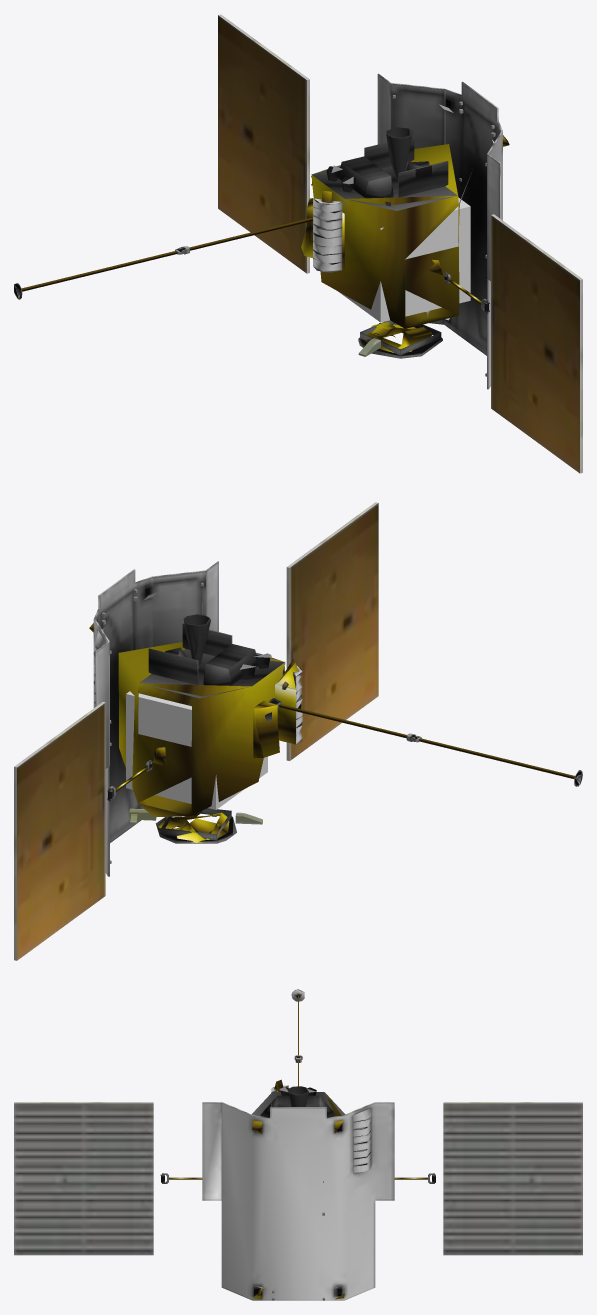
The model's file is space-messenger.glb.
The picture shows the model from 3 angles, top to bottom: view 1: azimuth 30°, elevation 25°; view 2: azimuth 150°, elevation 25°; view 3: azimuth 270°, elevation 25°; orthographic projection. The views are drawn at different scales.
Visible parts, largest first — view 1: Tex_01, Foil_gold, AO_heatshield, Foil_silver, _root, AO_other, AO_other2, Tex_darkgrey; view 2: Tex_01, Foil_gold, AO_heatshield, Foil_silver, _root, AO_other2, Tex_darkgrey, AO_other; view 3: Tex_01, AO_heatshield, AO_other, Foil_silver, Foil_gold.
Boxes of the visible parts, x1,y1,x2,y2 form: Tex_01: (218,14,582,473); Foil_gold: (21,135,509,352); AO_heatshield: (377,73,502,389); Foil_silver: (311,136,457,210); _root: (338,197,470,322); AO_other: (14,198,342,299); AO_other2: (175,176,489,358); Tex_darkgrey: (386,127,413,181); Tex_01: (14,502,378,960); Foil_gold: (89,623,574,842); AO_heatshield: (93,561,218,876); Foil_silver: (139,623,284,721); _root: (126,691,267,809); AO_other2: (107,663,421,843); Tex_darkgrey: (183,614,210,669); AO_other: (93,630,582,786); Tex_01: (14,1102,582,1255); AO_heatshield: (202,1102,394,1300); AO_other: (270,989,371,1173); Foil_silver: (251,1092,345,1117); Foil_gold: (169,995,427,1299).
Bounding box in the file's own units: 5.16 × 2.64 × 6.96.
10 materials, 9 textured.
